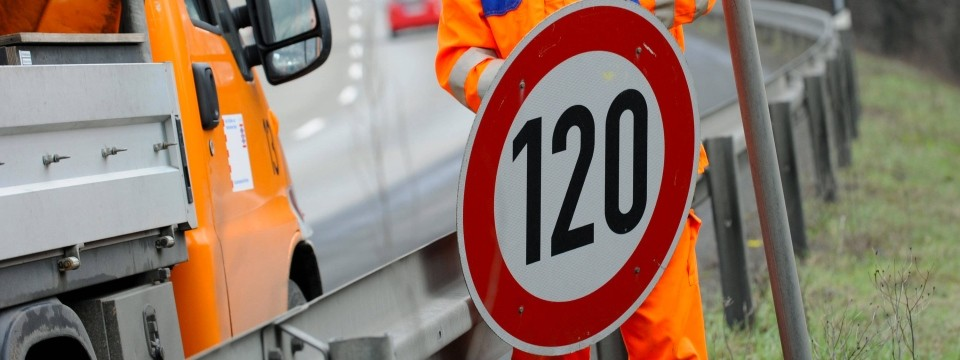Speed_limit_120km: (456, 2, 699, 358)
